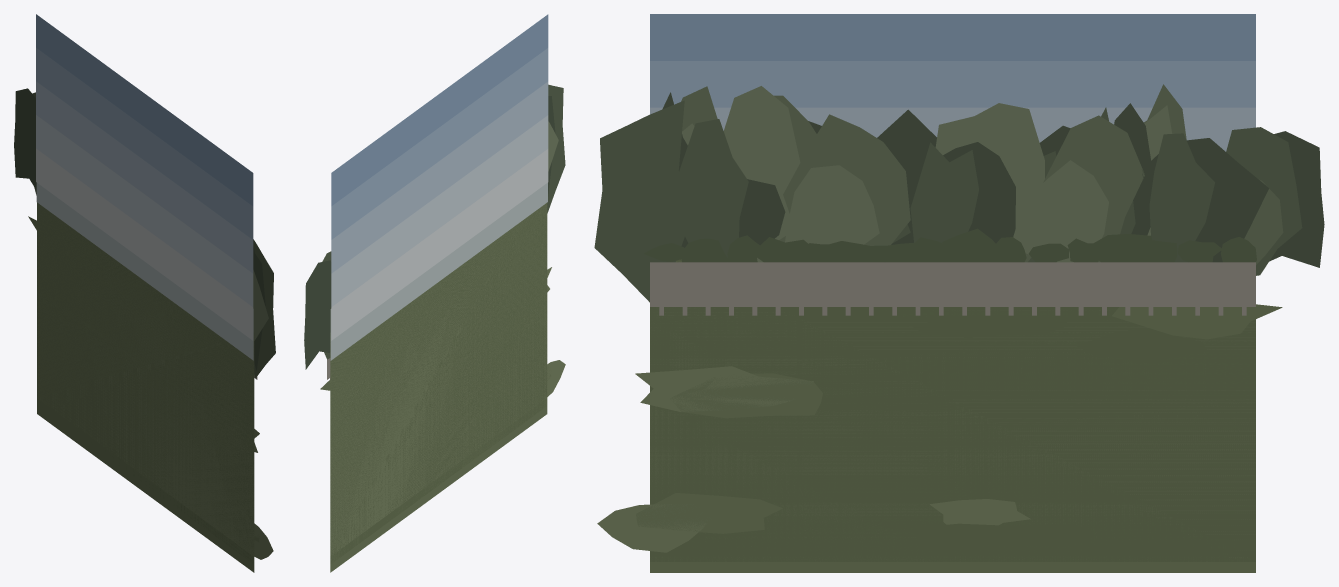
File: view_w3.glb
3 renders of one model, left to right at view 1: azimuth 30°, elevation 25°; view 2: azimuth 150°, elevation 25°; view 3: azimuth 270°, elevation 25°, orthographic. The views are drawn at different scales.
Visible parts, largest first — view 1: root; view 2: root; view 3: root.
Part boxes in pixels (x1=…): root: x1=14, y1=14, x2=275, y2=572; root: x1=304, y1=14, x2=565, y2=572; root: x1=594, y1=14, x2=1324, y2=572.
Bounding box in the file's own units: 0.0213 × 1.86 × 2.2.
